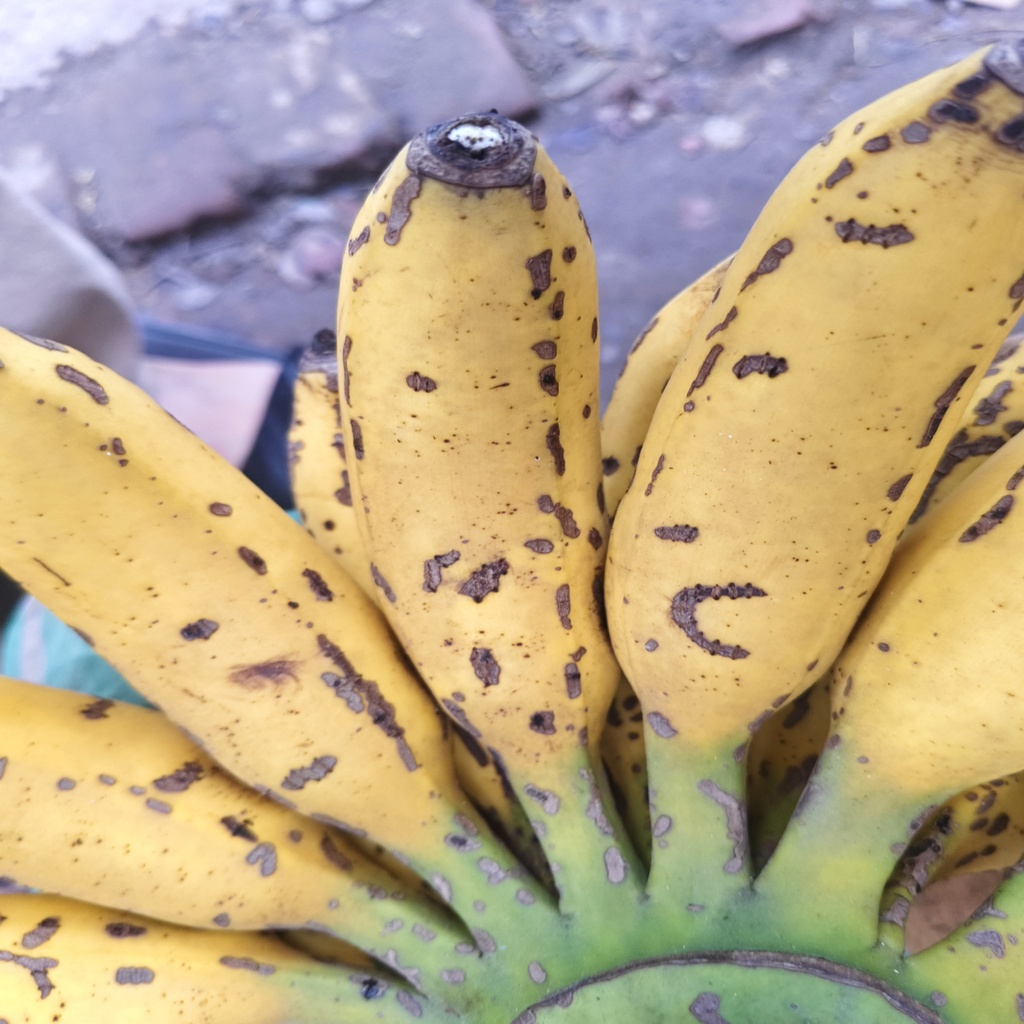unhealthy: (614, 44, 1020, 723), (1, 324, 453, 839), (338, 118, 616, 792)
